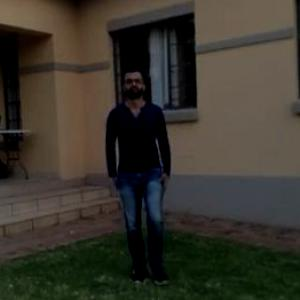follow: (105, 60, 169, 251)
